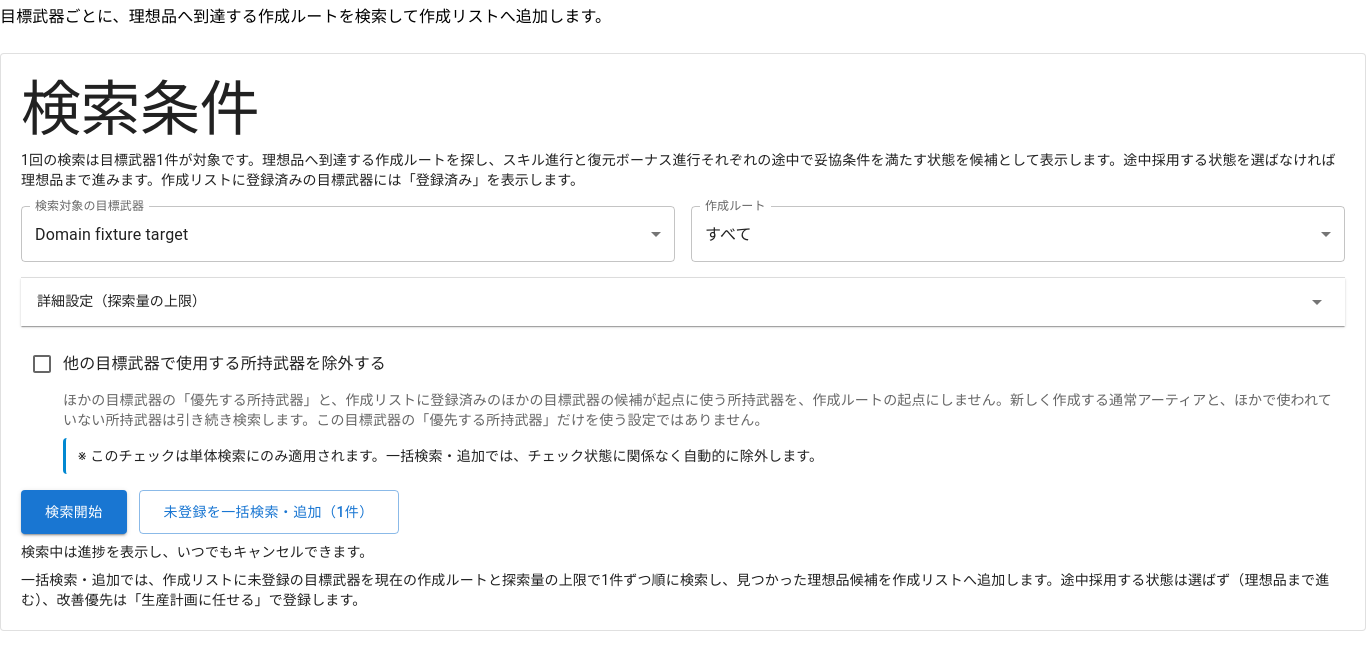
Test: SearchPage › searches exactly one Target and renders its canonical Ideal Candidate
Click the button "検索開始" at x=74, y=512, box [21,490,127,534]
(page scrolled)
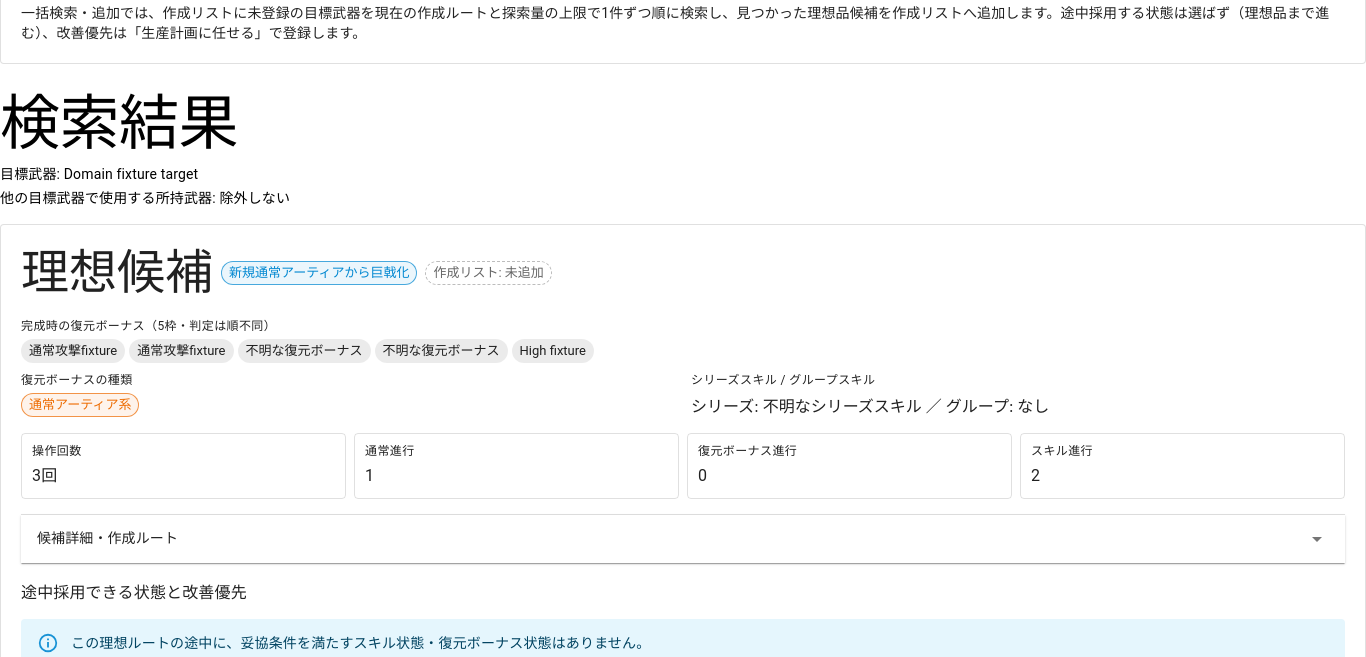
Now the heading "理想候補" is shown, box [21,245,213,301]
